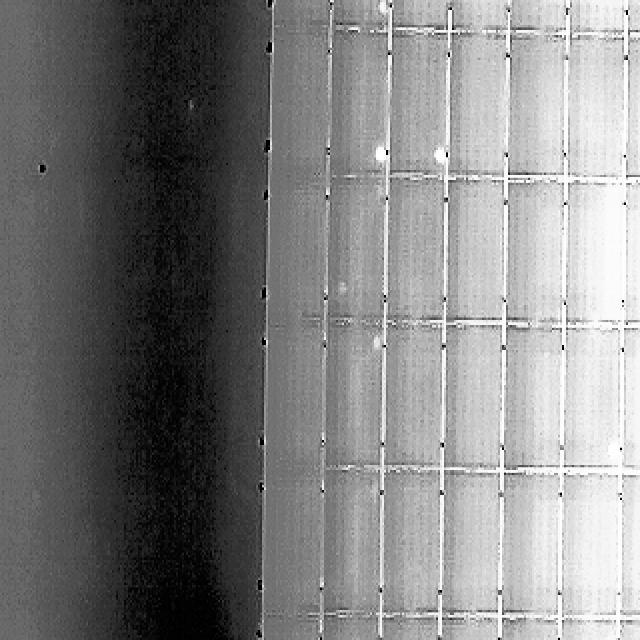Hotspots: (593, 436, 620, 466), (368, 0, 390, 25), (604, 437, 625, 461), (369, 140, 388, 166), (429, 141, 447, 168)
PV-modules: (381, 466, 444, 614), (442, 32, 505, 179), (383, 322, 446, 469), (326, 465, 388, 613), (327, 321, 389, 468), (387, 31, 449, 177), (438, 467, 500, 613), (503, 468, 565, 614), (441, 176, 503, 321), (564, 35, 626, 180), (439, 323, 500, 470), (558, 470, 620, 614), (386, 176, 447, 322), (563, 178, 624, 324), (264, 318, 323, 468), (510, 33, 570, 180), (506, 324, 566, 471), (561, 327, 621, 474), (508, 177, 568, 323), (262, 467, 322, 613), (269, 29, 329, 175), (332, 176, 391, 322), (267, 178, 327, 321), (335, 29, 393, 176), (624, 325, 640, 470), (624, 470, 640, 612), (626, 177, 640, 325), (510, 0, 570, 32), (566, 0, 626, 32), (444, 0, 506, 30), (392, 0, 450, 30), (338, 0, 396, 30), (628, 35, 640, 180), (270, 0, 330, 28), (319, 615, 382, 640), (260, 618, 323, 640), (378, 618, 441, 640), (500, 618, 563, 640), (441, 618, 502, 639), (555, 620, 617, 640), (614, 620, 640, 638), (630, 0, 640, 35)
